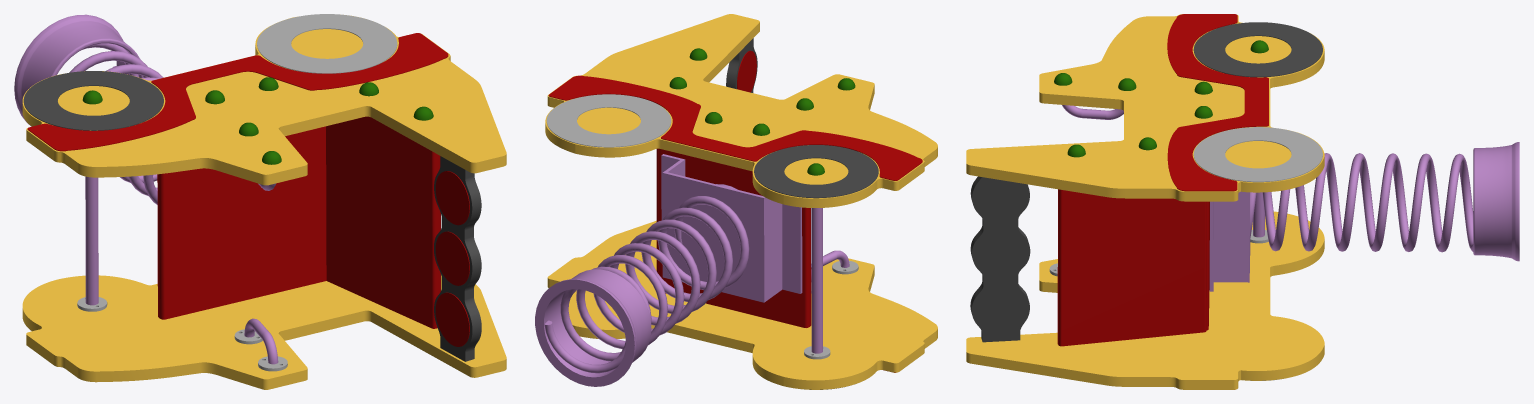
The model's file is toy_car.fbx.
3 renders of one model, left to right at view 1: azimuth 30°, elevation 25°; view 2: azimuth 150°, elevation 25°; view 3: azimuth 270°, elevation 25°, orthographic. The views are drawn at different scales.
Visible parts, largest first — view 1: Line05_inst_2, Line05, ChamferBox, ChamferBo0, Line06_inst_2, Circle12_inst_2, Circle13_inst_2, Line04, Rectangle0, Spring01, Cylinder01, Circle16 (+3 smaller); view 2: Line05_inst_2, Line05, Spring01, Line07, Line06_inst_2, Line04, ChamferBox, Circle13_inst_2, Circle12_inst_2, Cylinder01, Circle07, Rectangle0 (+1 smaller); view 3: Line05_inst_2, Line05, ChamferBo0, Spring01, Rectangle0, Line06_inst_2, Line04, Circle12_inst_2, Circle13_inst_2, Line07, Line08_inst_2, ChamferBox (+1 smaller).
Boxes of the visible parts, left/top/right/bottom form: Line05_inst_2: left=22, top=15, right=506, bottom=185; Line05: left=22, top=275, right=506, bottom=389; ChamferBox: left=157, top=126, right=326, bottom=319; ChamferBo0: left=326, top=116, right=440, bottom=328; Line06_inst_2: left=27, top=33, right=448, bottom=151; Circle12_inst_2: left=23, top=71, right=163, bottom=130; Circle13_inst_2: left=257, top=14, right=397, bottom=73; Line04: left=14, top=14, right=143, bottom=125; Rectangle0: left=434, top=156, right=481, bottom=361; Spring01: left=69, top=43, right=163, bottom=204; Cylinder01: left=85, top=176, right=98, bottom=305; Circle16: left=435, top=231, right=469, bottom=285; Line05_inst_2: left=545, top=14, right=937, bottom=207; Line05: left=547, top=220, right=937, bottom=389; Spring01: left=544, top=184, right=749, bottom=373; Line07: left=661, top=154, right=802, bottom=302; Line06_inst_2: left=548, top=75, right=922, bottom=180; Line04: left=535, top=269, right=651, bottom=386; ChamferBox: left=659, top=148, right=811, bottom=327; Circle13_inst_2: left=546, top=94, right=671, bottom=147; Circle12_inst_2: left=754, top=145, right=878, bottom=198; Cylinder01: left=811, top=208, right=822, bottom=353; Circle07: left=737, top=50, right=756, bottom=92; Rectangle0: left=726, top=38, right=757, bottom=92; Line05_inst_2: left=966, top=14, right=1324, bottom=201; Line05: left=966, top=211, right=1324, bottom=389; ChamferBo0: left=1057, top=189, right=1206, bottom=346; Spring01: left=1250, top=153, right=1473, bottom=252; Rectangle0: left=970, top=176, right=1030, bottom=342; Line06_inst_2: left=1167, top=14, right=1268, bottom=191; Line04: left=1473, top=142, right=1519, bottom=261; Circle12_inst_2: left=1193, top=22, right=1322, bottom=77; Circle13_inst_2: left=1193, top=127, right=1322, bottom=182; Line07: left=1209, top=191, right=1250, bottom=291; Line08_inst_2: left=1062, top=105, right=1123, bottom=119; ChamferBox: left=1206, top=201, right=1209, bottom=330.
Bounding box in the file's own units: 473 × 268 × 623.
